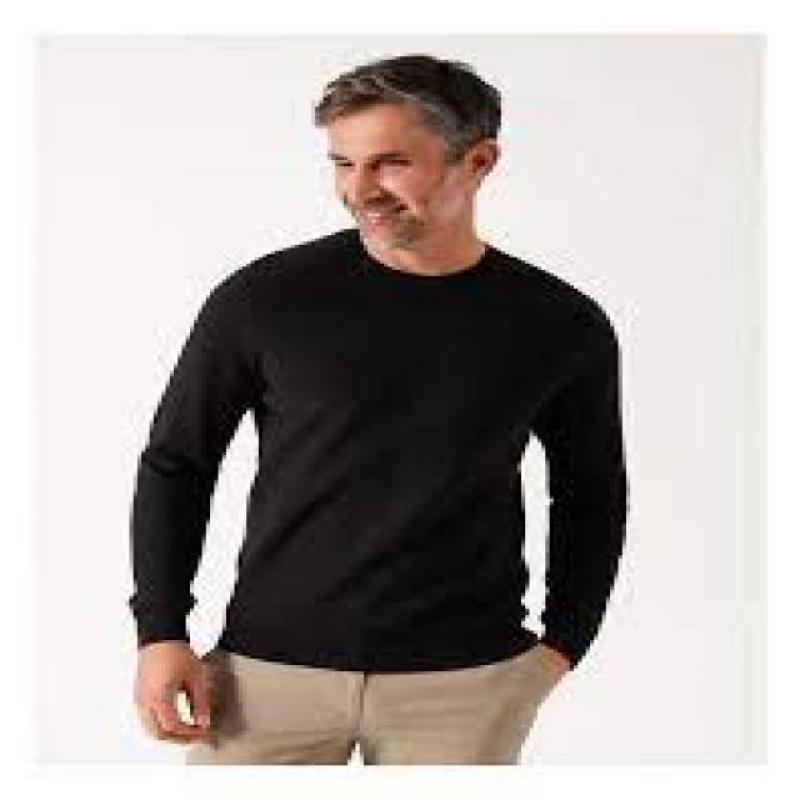long sleeve shirt: (127, 226, 634, 670)
trousers: (183, 647, 551, 772)
